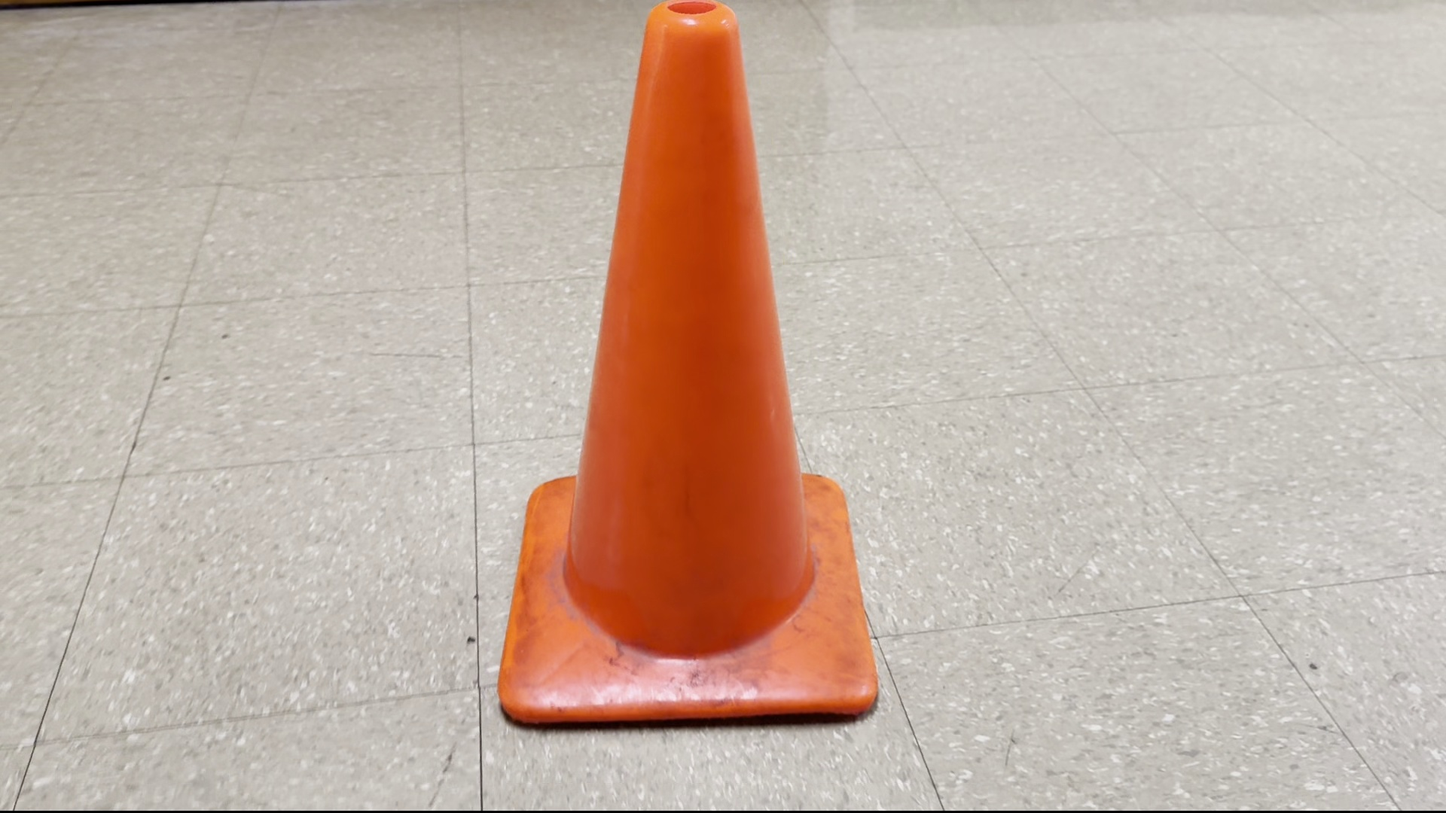traffic_cone: (497, 0, 879, 726)
